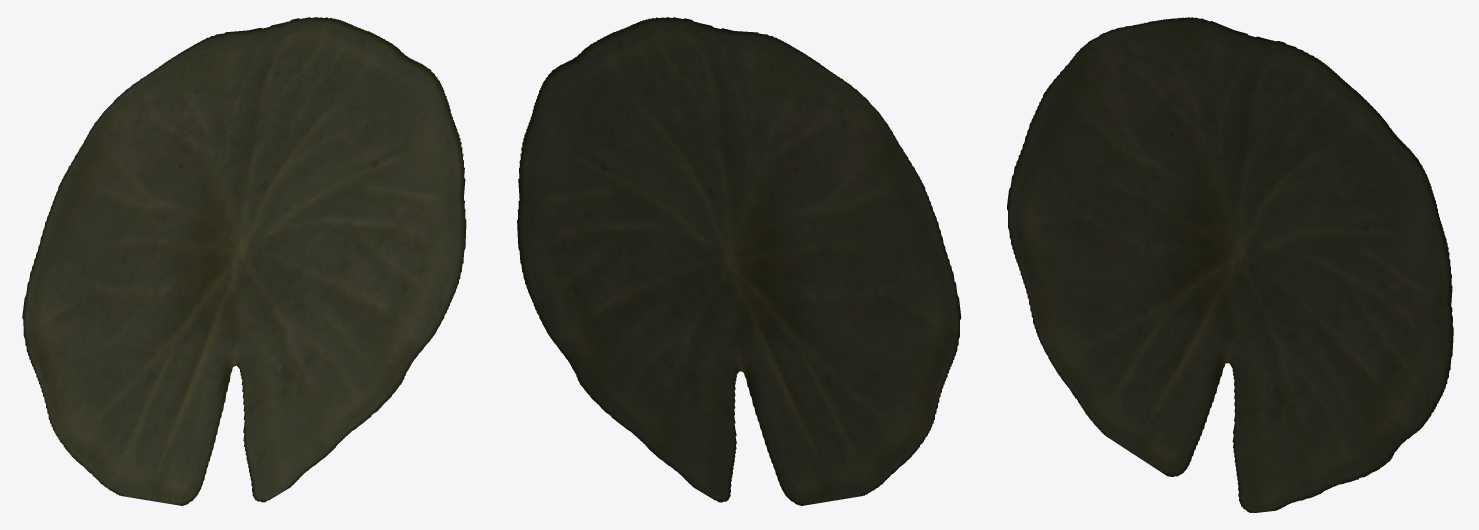
File: TI_WaterLily_leaf_03.fbx
3 views of the same model, side by side, from view 1: azimuth 30°, elevation 25°; view 2: azimuth 150°, elevation 25°; view 3: azimuth 330°, elevation 25° (orthographic).
Visible parts, largest first — view 1: TI_WaterLily_leaf_03; view 2: TI_WaterLily_leaf_03; view 3: TI_WaterLily_leaf_03.
Boxes of the visible parts, x1,y1,x2,y2 form: TI_WaterLily_leaf_03: [22, 17, 466, 505]; TI_WaterLily_leaf_03: [517, 17, 961, 505]; TI_WaterLily_leaf_03: [1007, 17, 1453, 512].
Size of the model in its own units: 0.6848 by 0.7068 by 0.0163.
